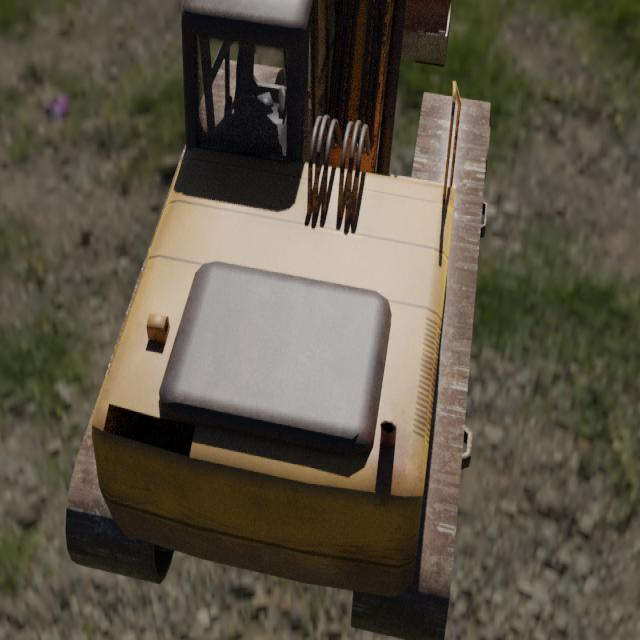excavator: (64, 0, 490, 640)
